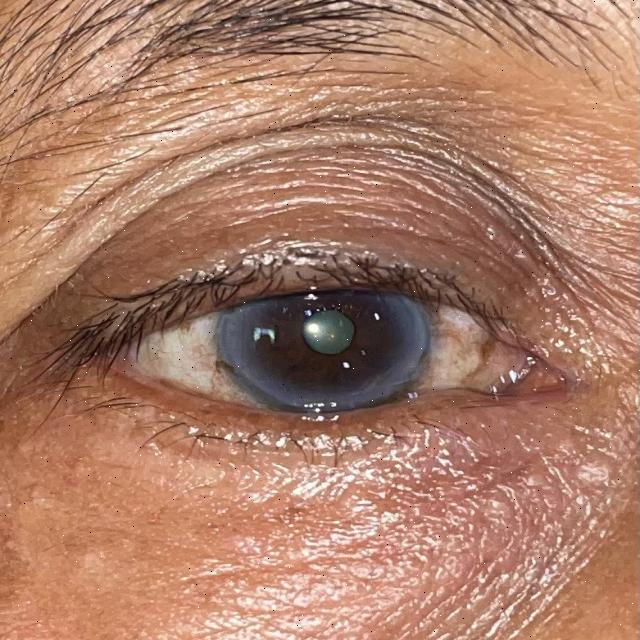Cataract: (215, 242, 427, 428)
